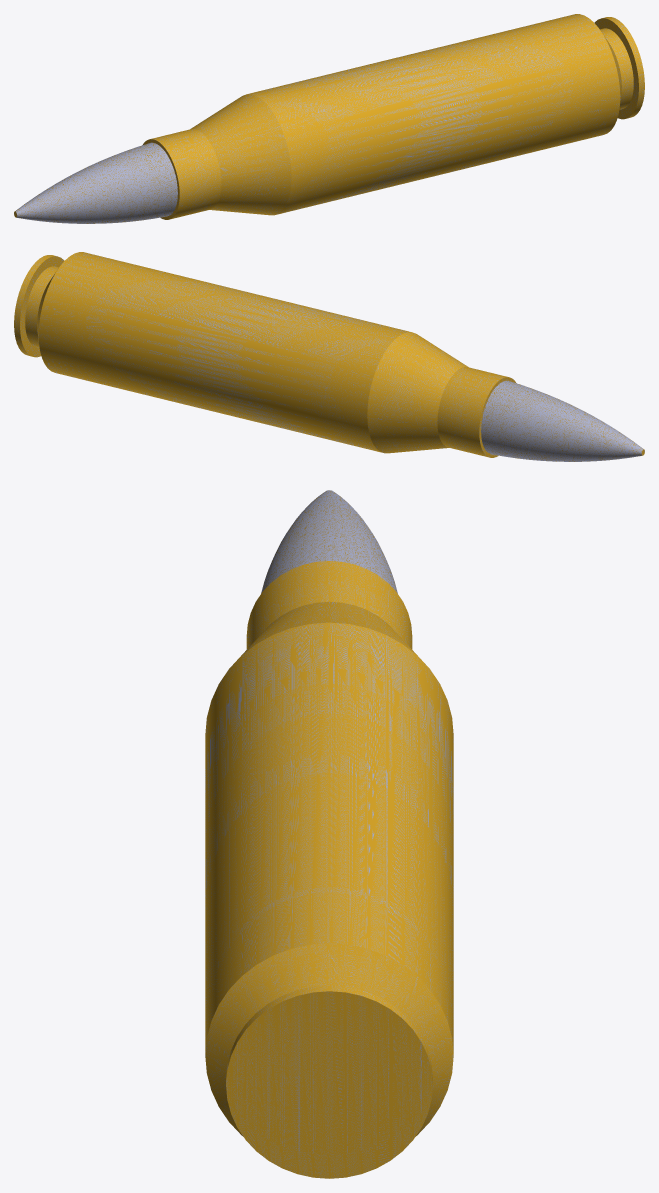
The model's file is bullet.obj.
3 renders of one model, top to bottom at view 1: azimuth 30°, elevation 25°; view 2: azimuth 150°, elevation 25°; view 3: azimuth 270°, elevation 25°, orthographic. The views are drawn at different scales.
Visible parts, largest first — view 1: SketchUp.001_ID17, SketchUp.002_ID25, SketchUp.003_ID35; view 2: SketchUp.001_ID17, SketchUp.002_ID25, SketchUp.003_ID35; view 3: SketchUp.001_ID17, SketchUp.003_ID35, SketchUp.002_ID25.
Boxes of the visible parts, left/top/right/bottom form: SketchUp.001_ID17: left=142, top=14, right=633, bottom=219; SketchUp.002_ID25: left=15, top=142, right=177, bottom=223; SketchUp.003_ID35: left=594, top=17, right=644, bottom=119; SketchUp.001_ID17: left=25, top=252, right=516, bottom=457; SketchUp.002_ID25: left=481, top=380, right=643, bottom=461; SketchUp.003_ID35: left=14, top=255, right=64, bottom=357; SketchUp.001_ID17: left=205, top=561, right=453, bottom=1136; SketchUp.003_ID35: left=226, top=985, right=432, bottom=1178; SketchUp.002_ID25: left=261, top=490, right=397, bottom=593.
Bounding box in the file's own units: 0.8017 × 0.1429 × 0.1429.
